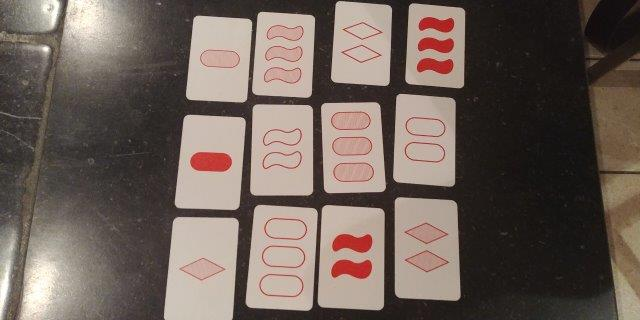1FP: (184, 119, 236, 206)
1HD: (175, 220, 230, 320)
1HP: (195, 20, 243, 96)
2ED: (336, 8, 387, 80)
2EP: (398, 100, 452, 180)
2EW: (255, 107, 309, 192)
2FW: (324, 210, 381, 306)
2HD: (397, 203, 455, 295)
3EP: (257, 209, 308, 305)
3FW: (409, 8, 462, 83)
3HP: (325, 105, 377, 190)
3HW: (259, 18, 311, 93)
